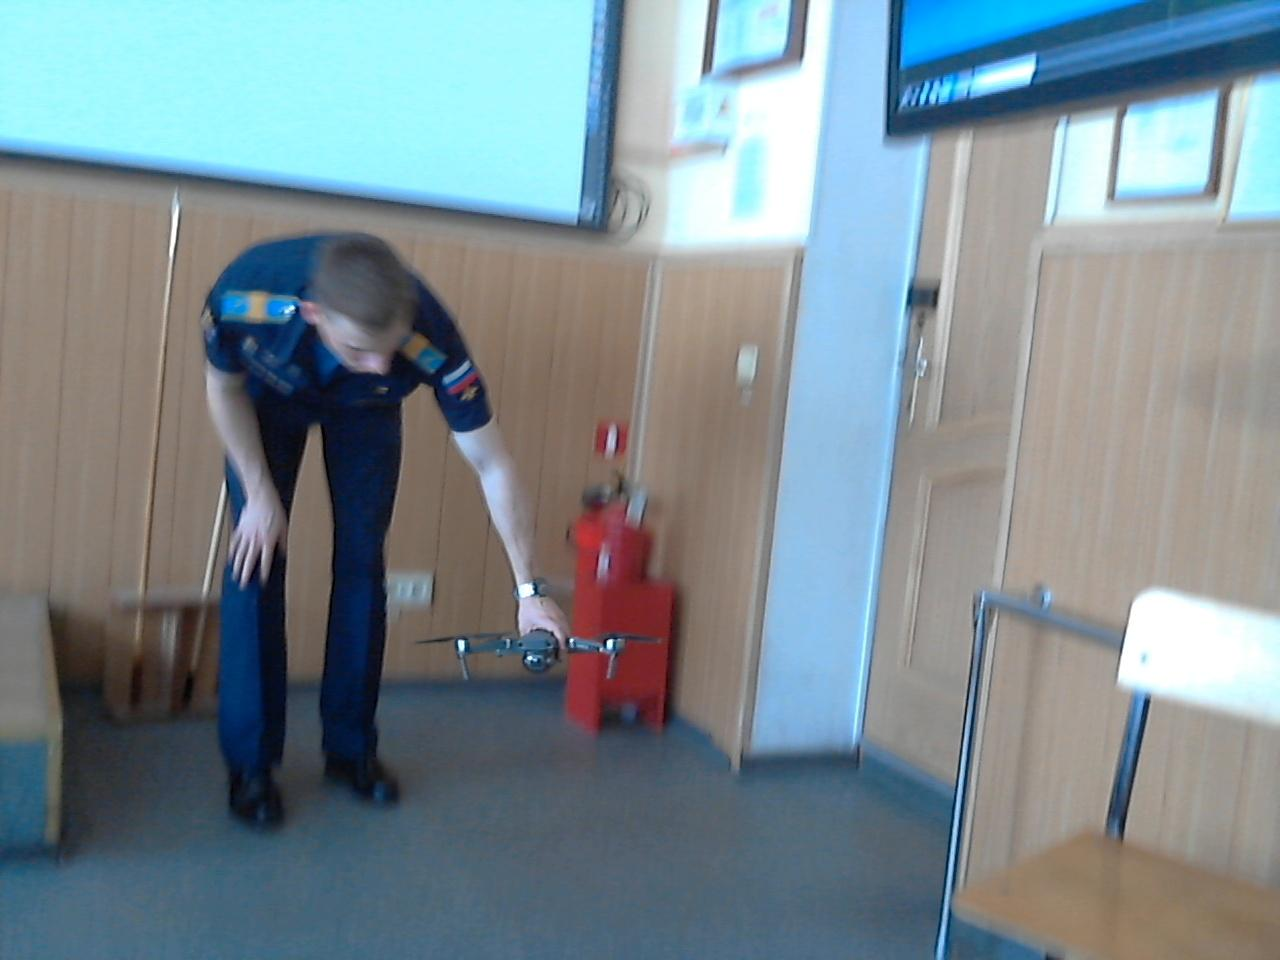drone: (424, 576, 645, 710)
